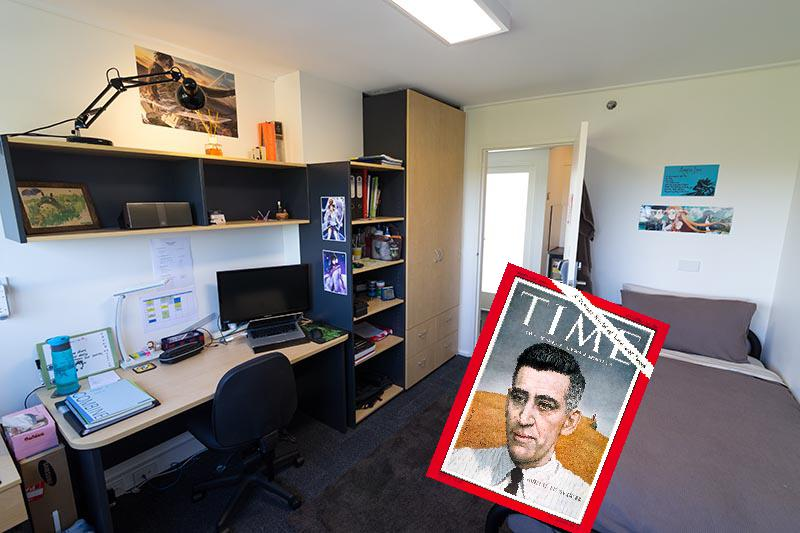times: (422, 257, 682, 533)
